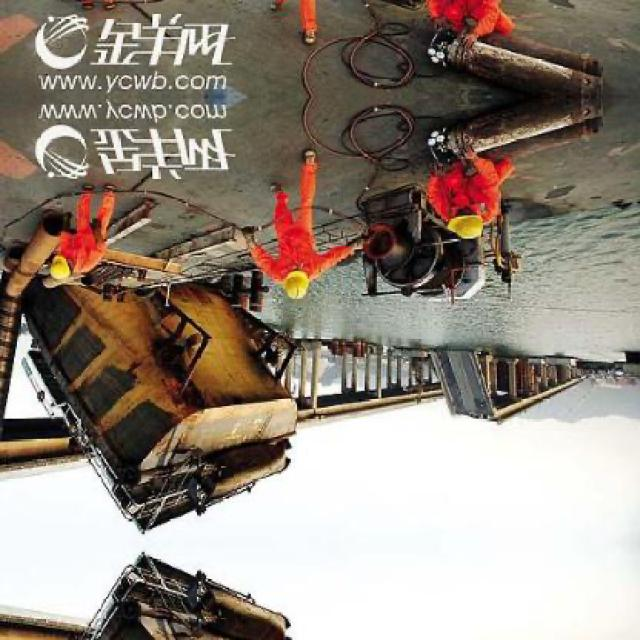con casco: (1, 217, 99, 293), (443, 163, 523, 243), (223, 253, 320, 318)
